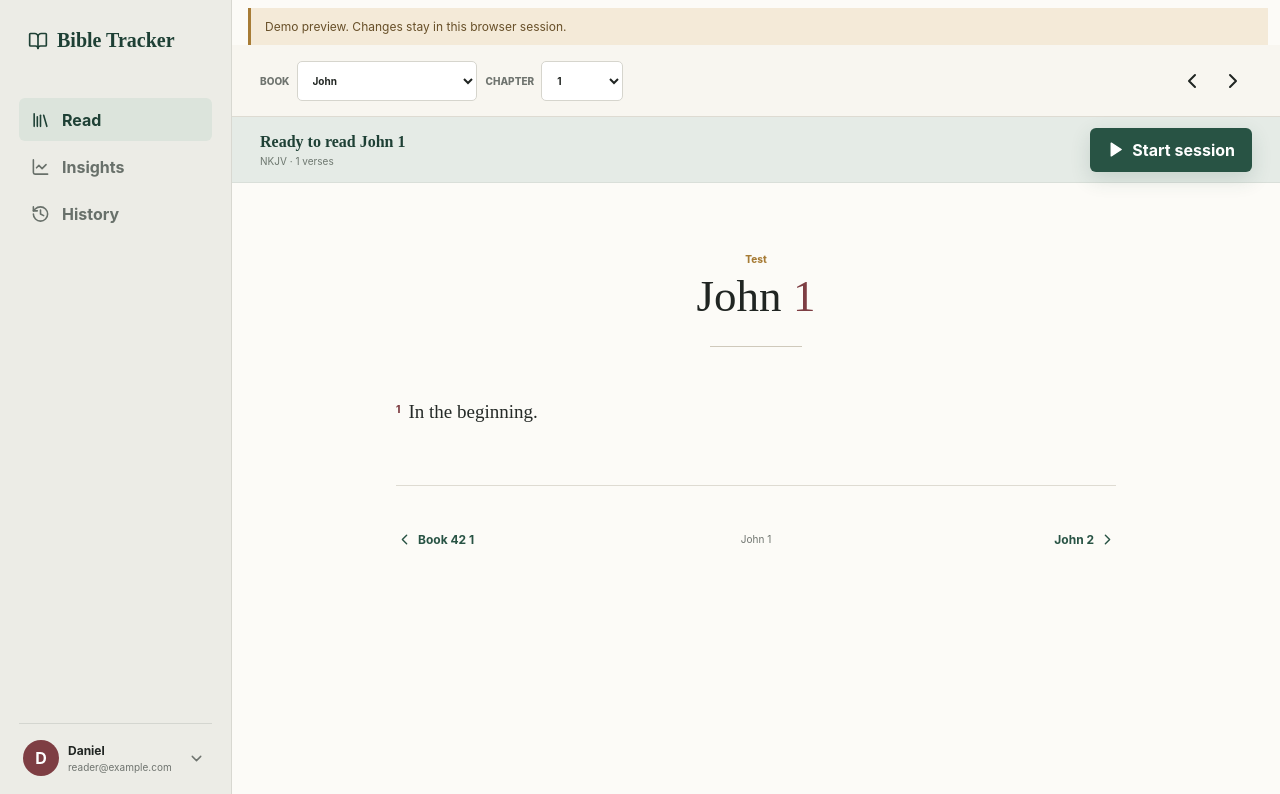
Scenario: reading session timer › clears the complete reading history after confirmation
Click the button "History".
click(116, 214)  # box [19,192,212,235]
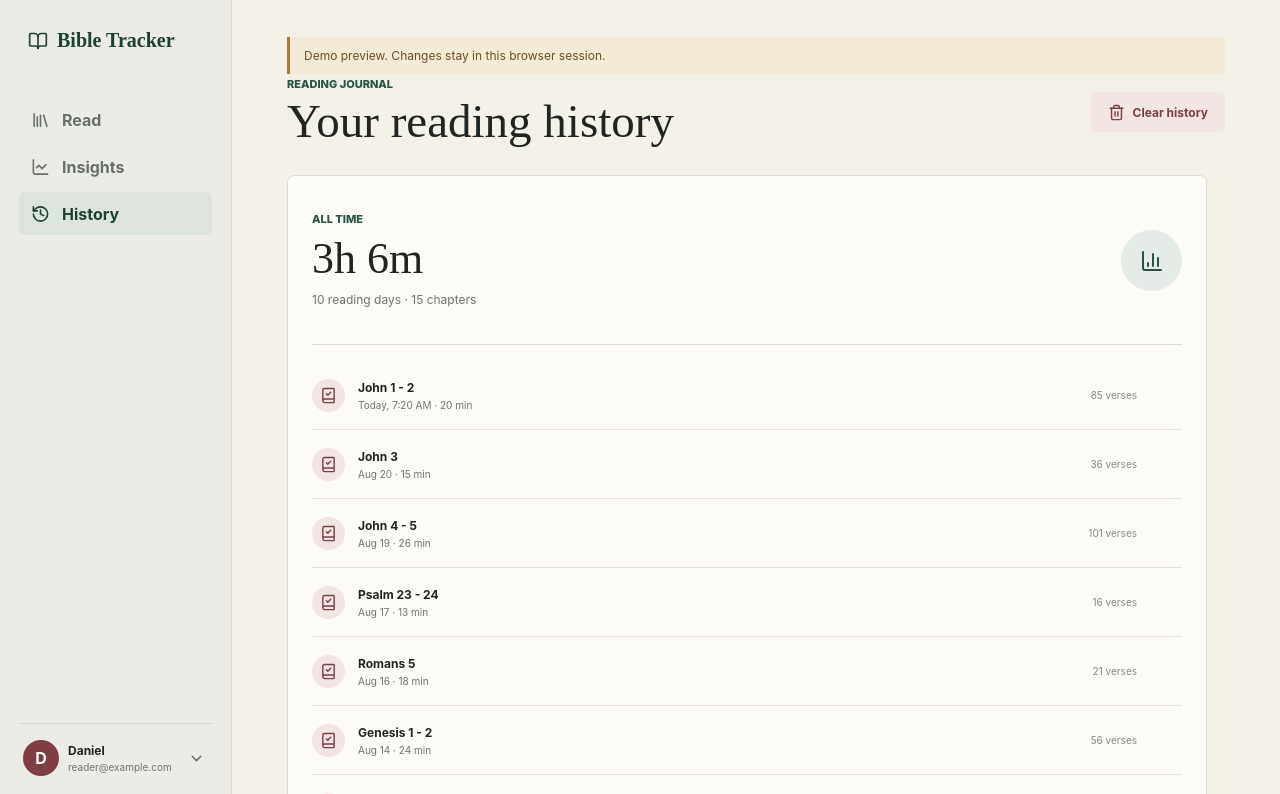
Click the button "Clear history".
click(1158, 112)  # box [1090,92,1225,132]
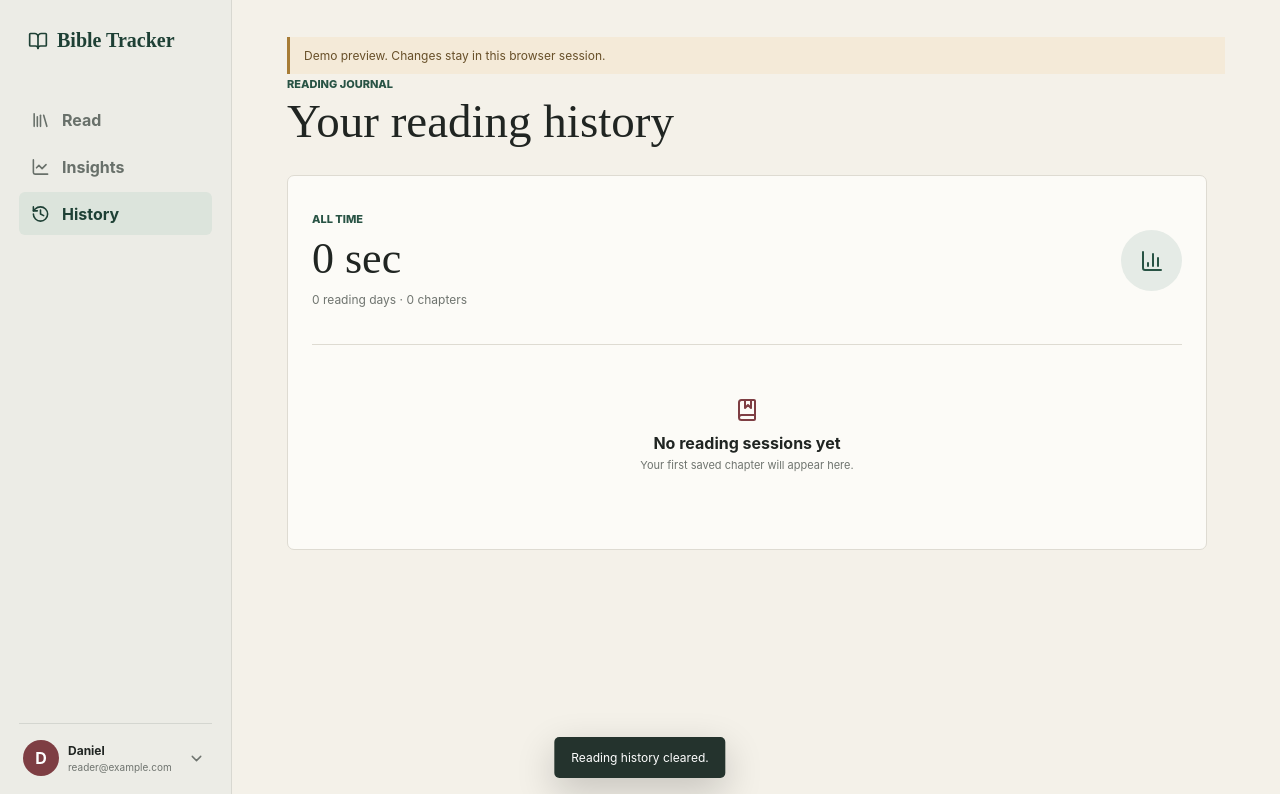
Result: the text "No reading sessions yet" is shown at [653,433,841,453]
Result: the message reads "Reading history cleared." at [571,750,709,765]
